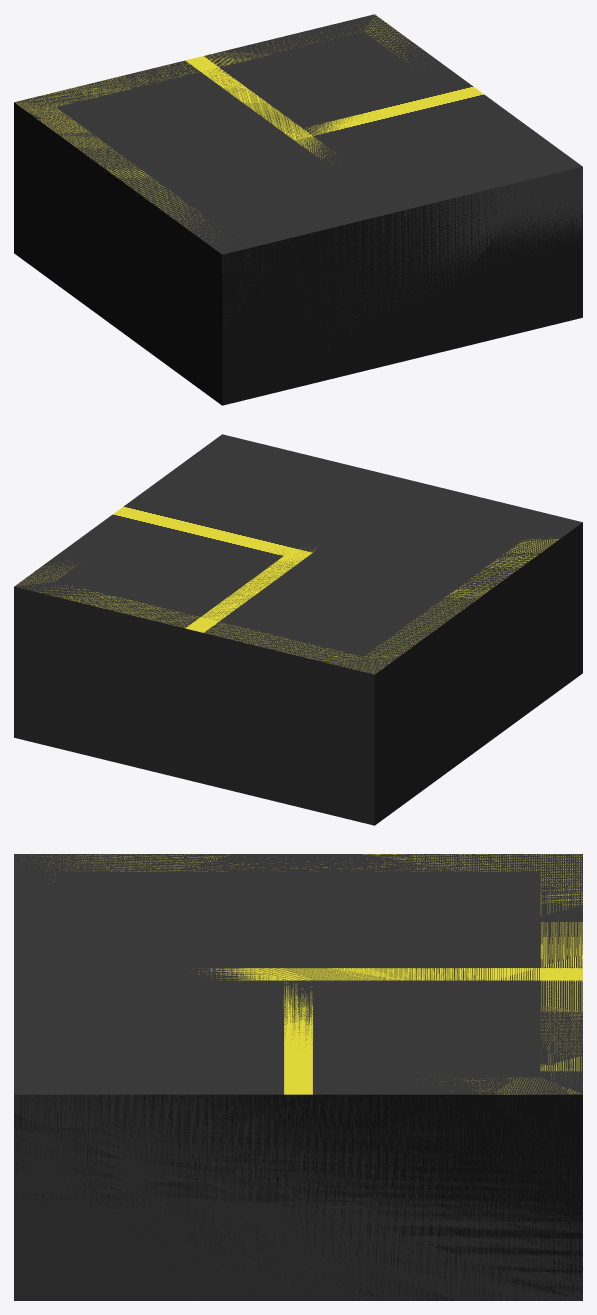
The model's file is Planes.fbx.
3 views of the same model, one above another, from view 1: azimuth 30°, elevation 25°; view 2: azimuth 150°, elevation 25°; view 3: azimuth 270°, elevation 25° (orthographic). The views are drawn at different scales.
Visible parts, largest first — view 1: AsfaltoCurva, AsfaltoCont, AsfaltoQuad, AsfaltoPontilhado; view 2: AsfaltoCont, AsfaltoCurva, AsfaltoQuad, AsfaltoPontilhado; view 3: AsfaltoCurva, AsfaltoCont, AsfaltoQuad, AsfaltoPontilhado.
Part boxes in pixels (bbox=[...]): AsfaltoCurva: bbox=[14, 30, 582, 405]; AsfaltoCont: bbox=[14, 14, 582, 405]; AsfaltoQuad: bbox=[16, 15, 556, 241]; AsfaltoPontilhado: bbox=[14, 17, 582, 394]; AsfaltoCont: bbox=[14, 522, 582, 825]; AsfaltoCurva: bbox=[14, 434, 582, 825]; AsfaltoQuad: bbox=[14, 539, 558, 820]; AsfaltoPontilhado: bbox=[14, 574, 472, 824]; AsfaltoCurva: bbox=[14, 854, 582, 1300]; AsfaltoCont: bbox=[14, 854, 582, 1300]; AsfaltoQuad: bbox=[36, 854, 582, 1094]; AsfaltoPontilhado: bbox=[80, 854, 582, 1271].
Size of the model in its own units: 1000 by 400 by 1000.
